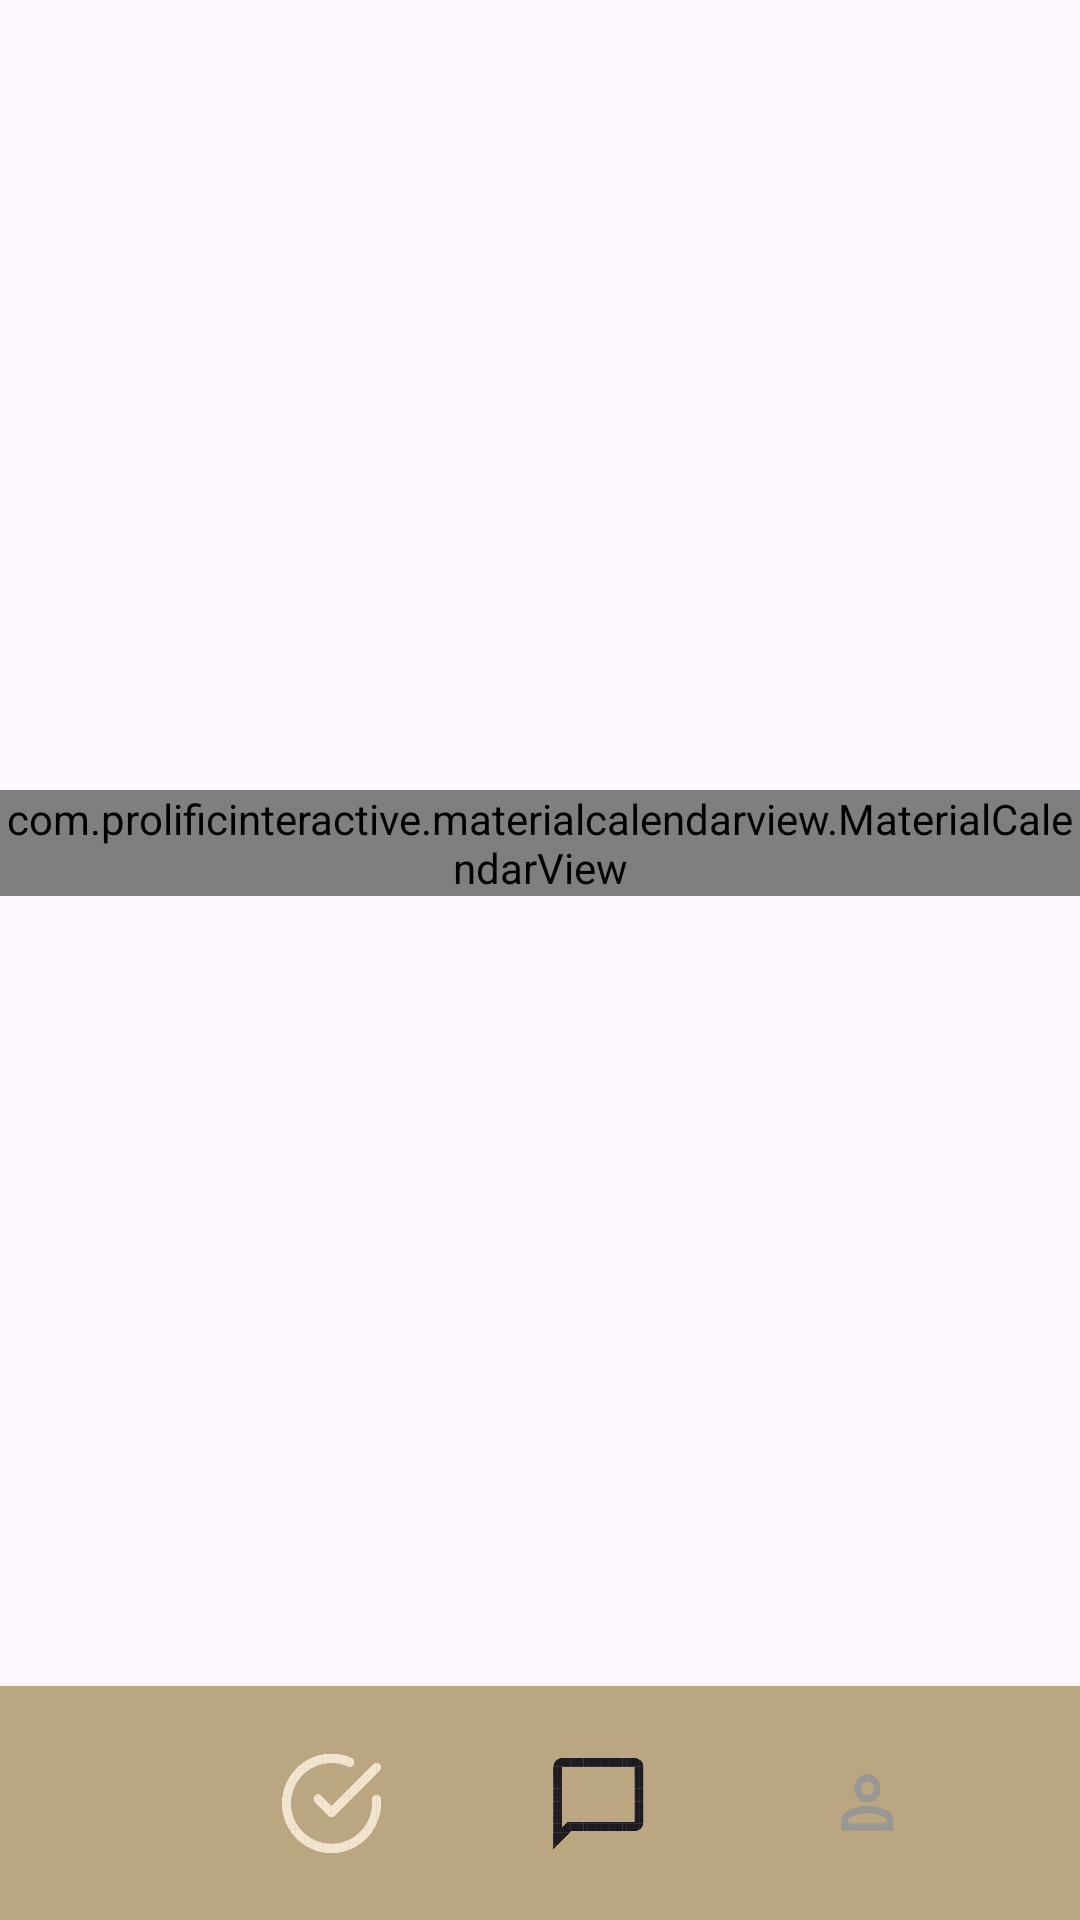

Where icons sit on this 1080 × 1920 app screen, as (x1, y1, x2, y2):
chat: (553, 1758, 644, 1849)
check press: (282, 1754, 381, 1853)
mypage: (842, 1774, 893, 1830)
